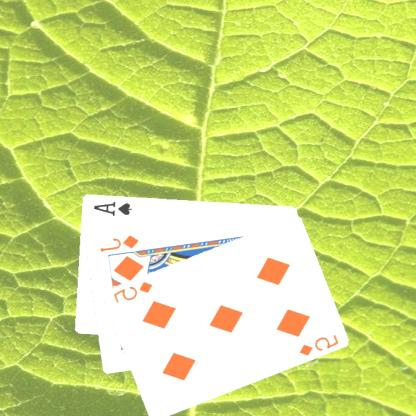5D: (112, 278, 156, 304), (298, 332, 342, 358)
AS: (92, 198, 135, 218)
JD: (99, 232, 142, 254)
